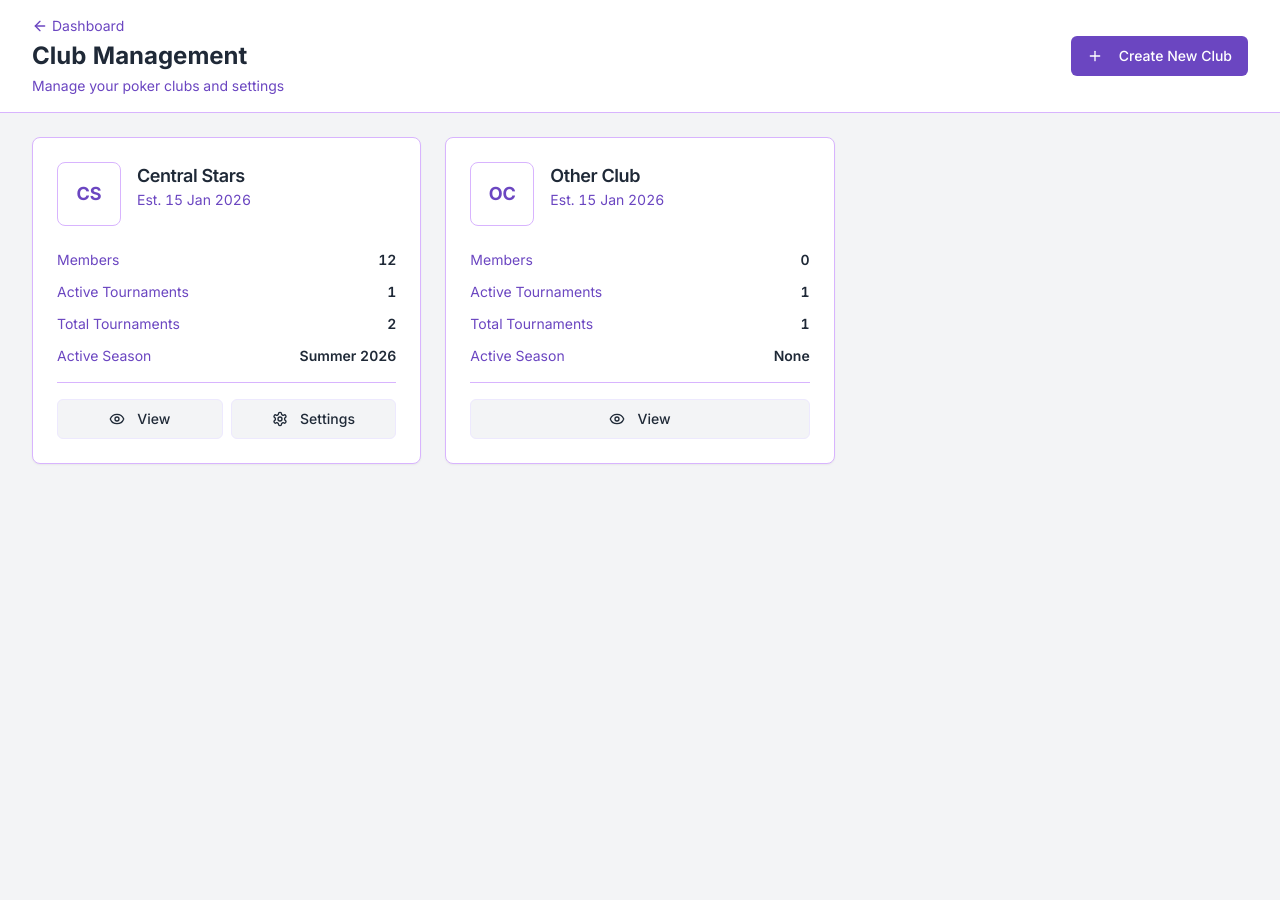
Test case: Create New Club › asks for a name and a usable slug before sending anything
Click the button with test id "create-club-button" at [1159, 56], box [1071,36,1248,76]
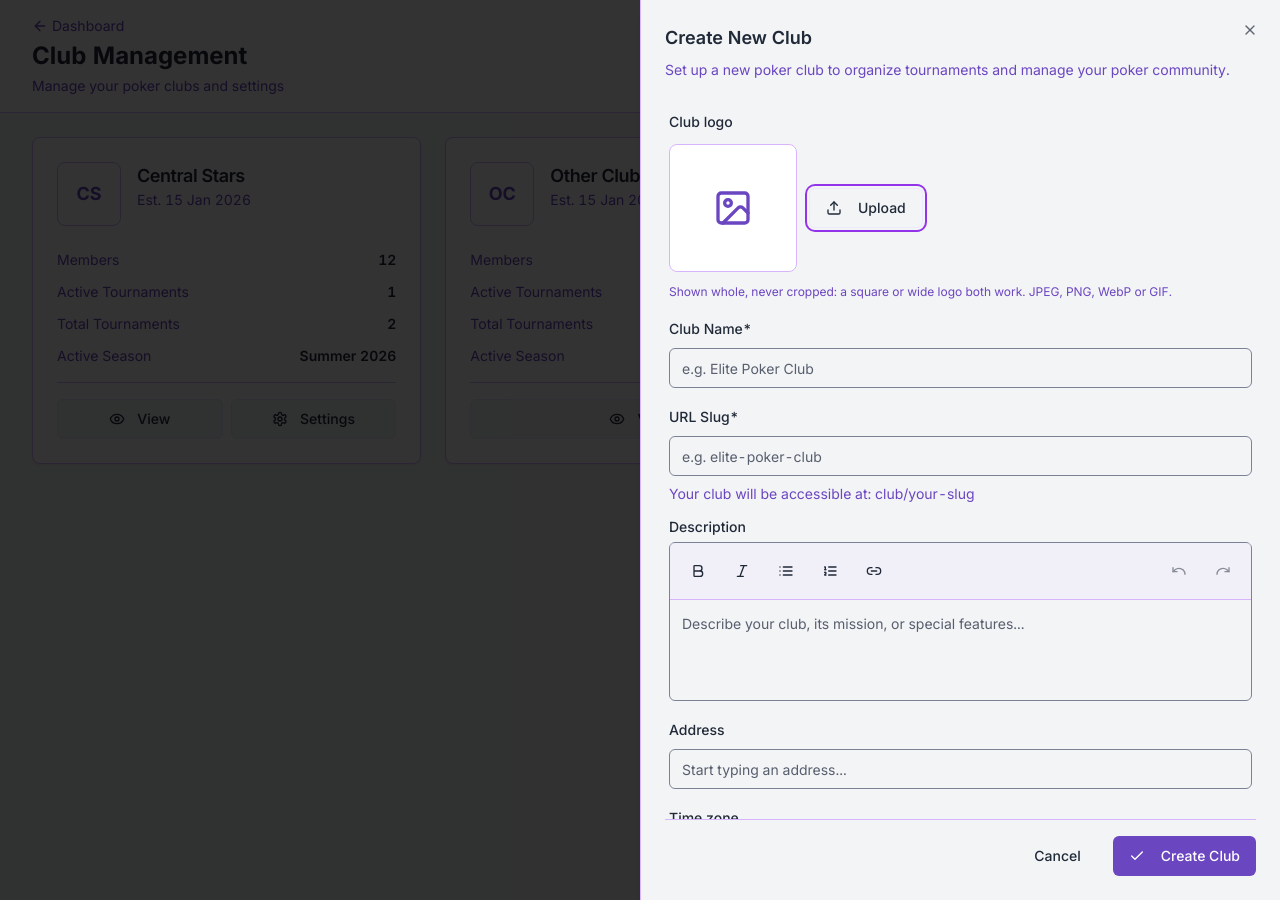
Click the button with test id "create-club-final" at [1184, 856], box [1113,836,1256,876]
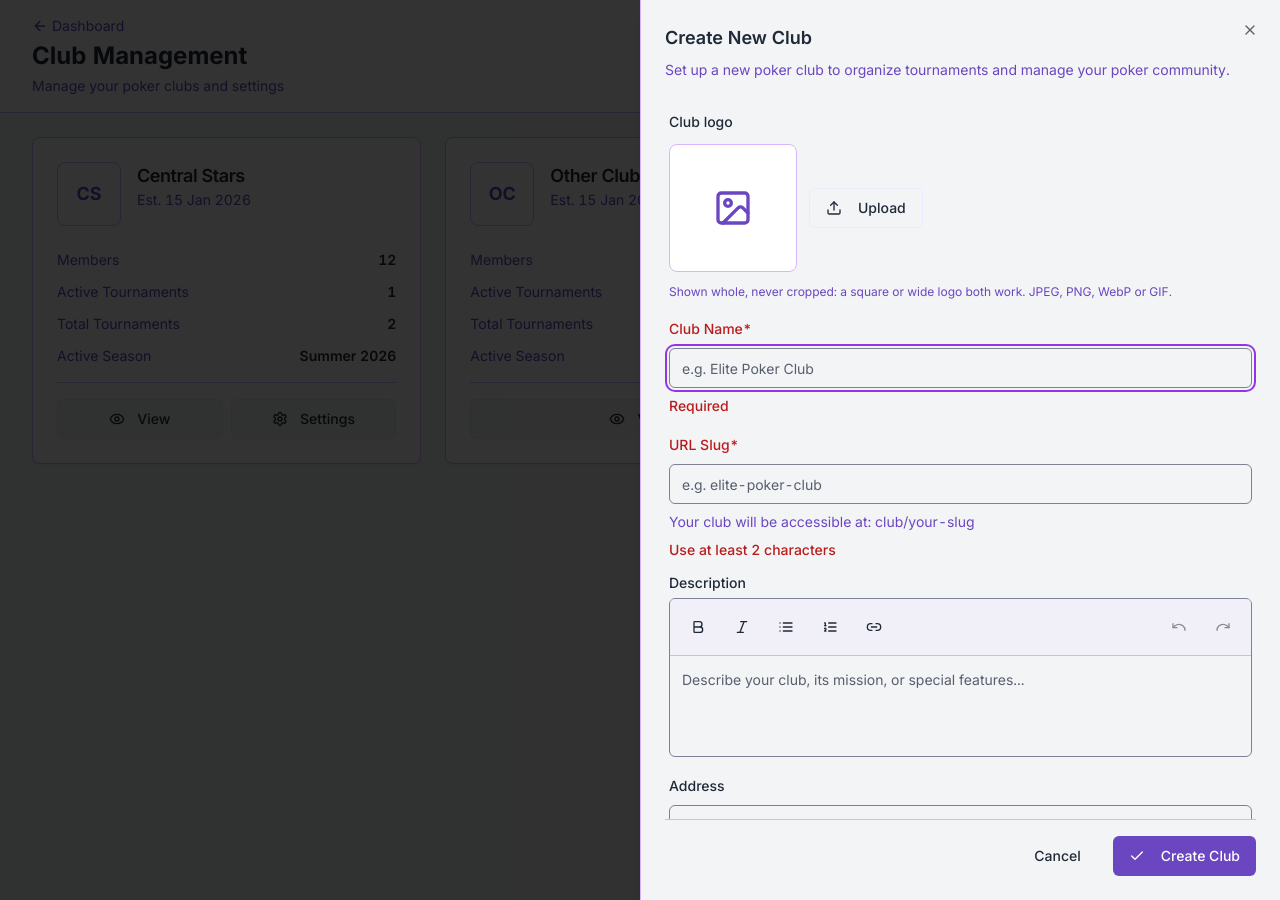
Now the text "Required" is shown, box [669,397,729,414]
Now the text "Use at least 2 characters" is shown, box [669,541,836,558]
